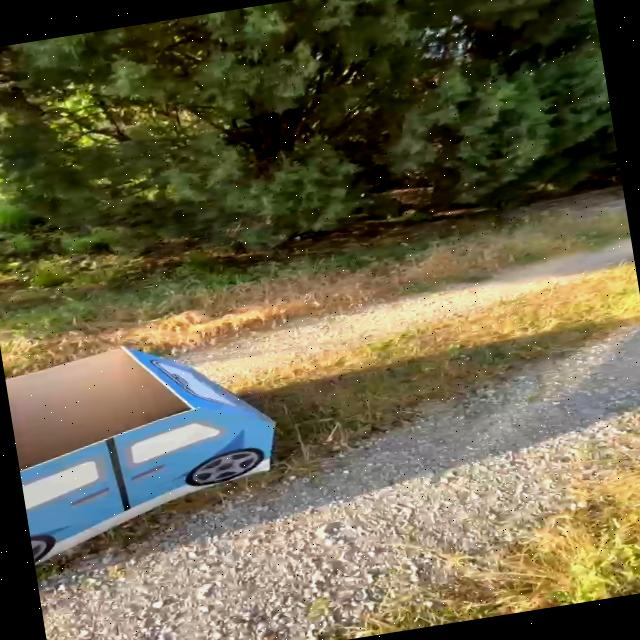blue_car: (2, 310, 338, 570)
